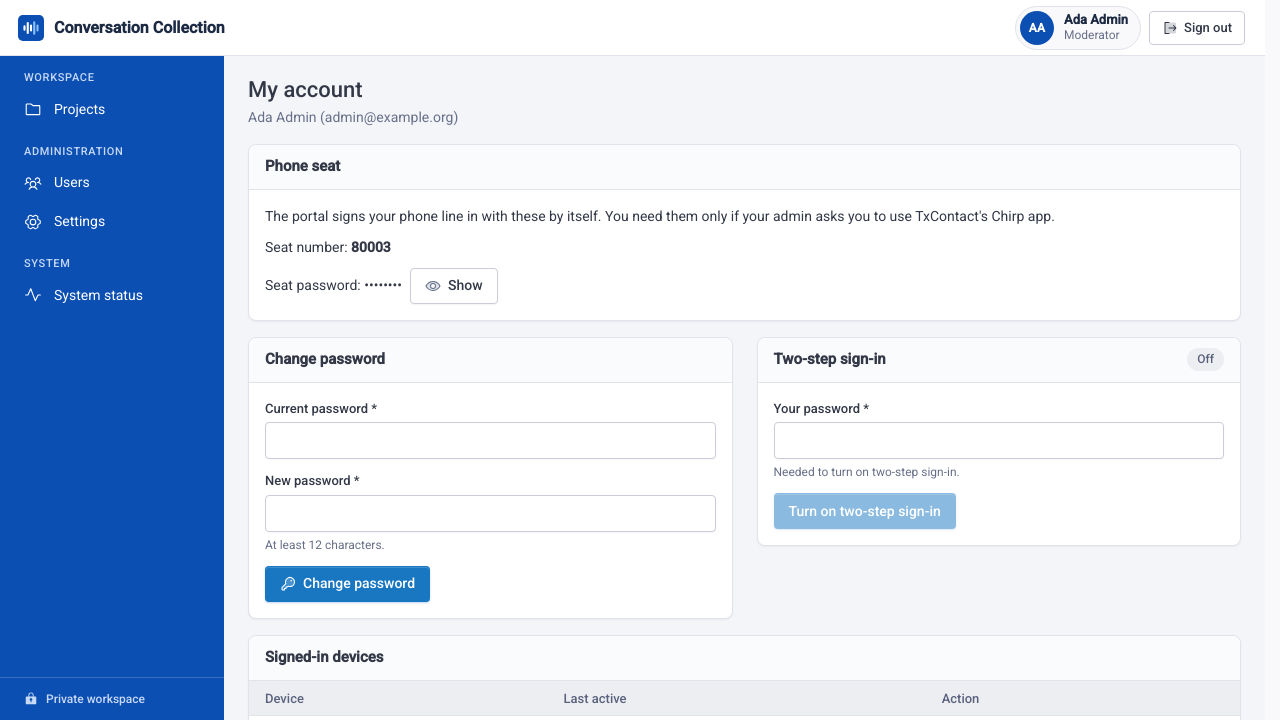
Test: the moderator's own phone seat on My account › shows the seat number and, on request, the password the portal signs in with
This screenshot has width=1280, height=720.
Check: the heading "Phone seat" is shown, box x1=249 y1=145 x2=1240 y2=190
Check: the text "The portal signs your phone line in with these by itself. You need them only if your admin asks you to use TxContact's C" is shown, box x1=265 y1=208 x2=1055 y2=224
Click the button "Show": (454, 286) x1=410 y1=268 x2=498 y2=304
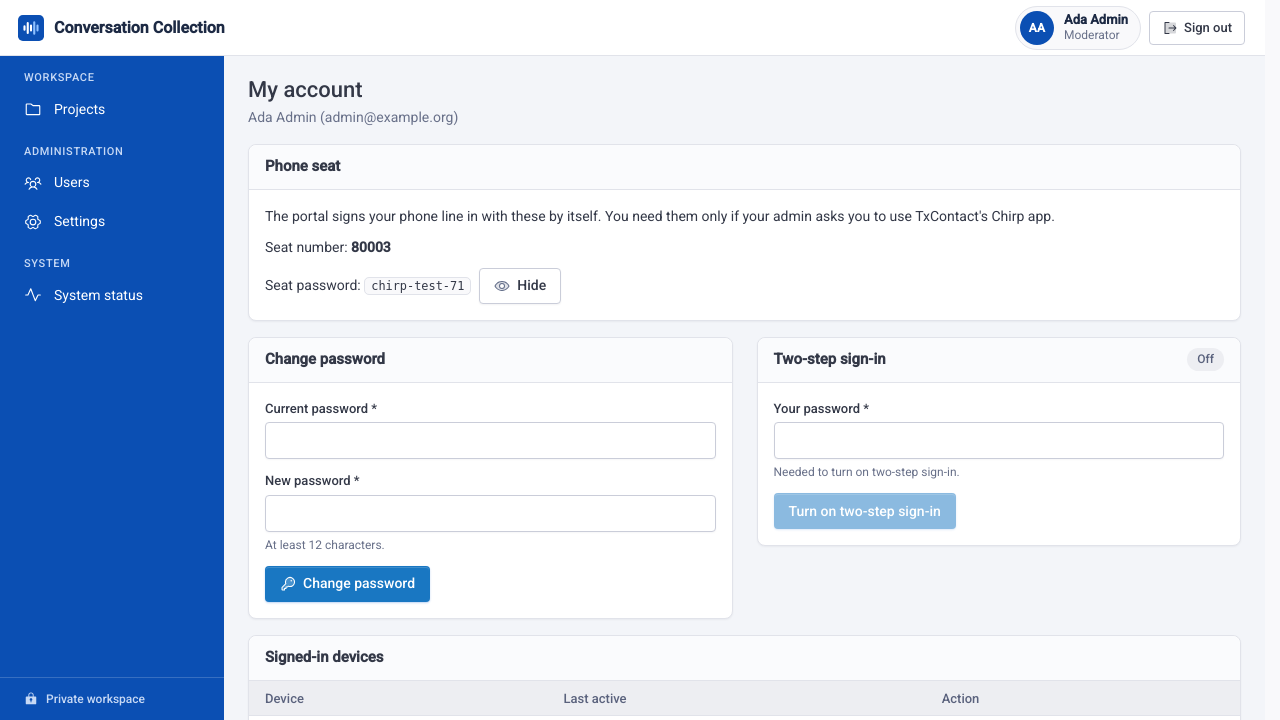
Check: the text "chirp-test-71" is shown, box x1=364 y1=277 x2=471 y2=295
